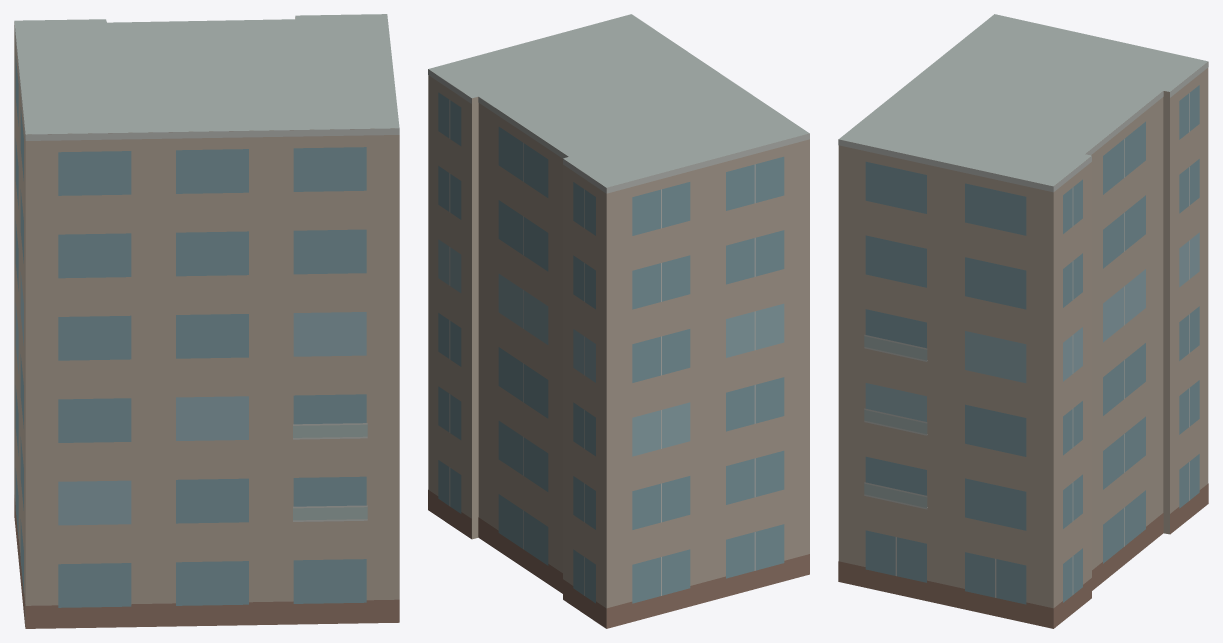
File: survey-upis-32670891.glb
3 renders of one model, left to right at view 1: azimuth 30°, elevation 25°; view 2: azimuth 150°, elevation 25°; view 3: azimuth 270°, elevation 25°, orthographic. The views are drawn at different scales.
Visible parts, largest first — view 1: survey-upis-32670891.tmp; view 2: survey-upis-32670891.tmp; view 3: survey-upis-32670891.tmp.
Part boxes in pixels (x1,y1,x2,y2): survey-upis-32670891.tmp: (14,14,399,628); survey-upis-32670891.tmp: (428,14,809,628); survey-upis-32670891.tmp: (838,14,1208,628).
Size of the model in its own units: 15.3 by 18.3 by 13.88.
